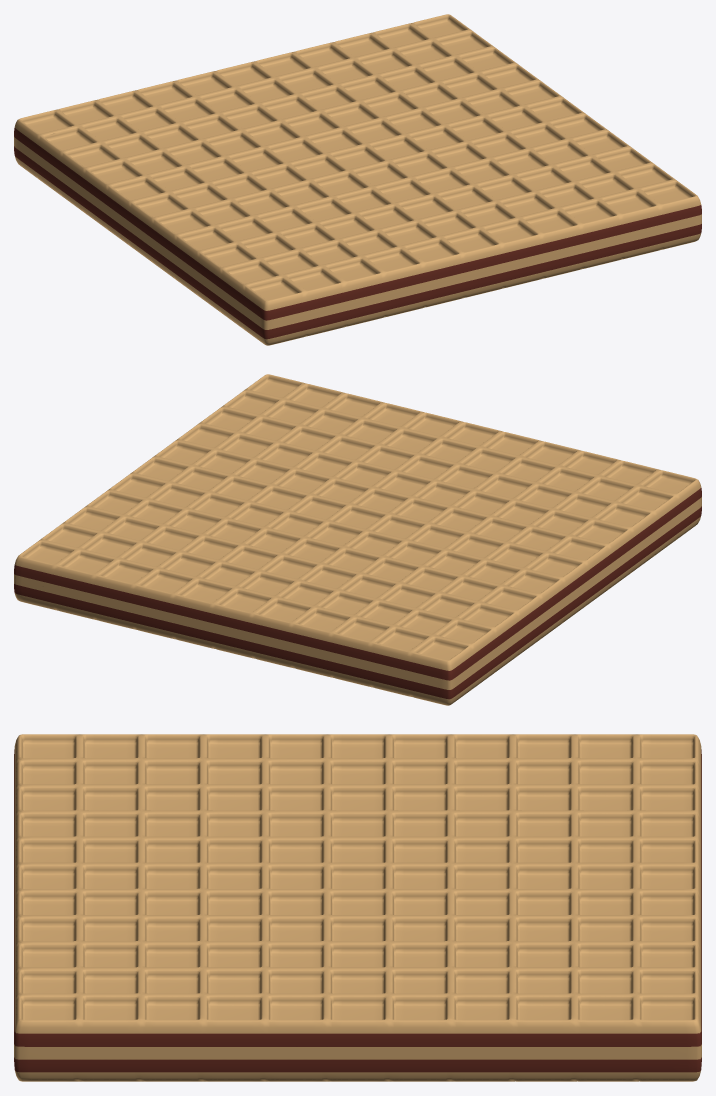
Rendered from ChocoWafer.fbx.
3 renders of one model, top to bottom at view 1: azimuth 30°, elevation 25°; view 2: azimuth 150°, elevation 25°; view 3: azimuth 270°, elevation 25°, orthographic. The views are drawn at different scales.
Parts seen in each view (by area): view 1: Wafer; view 2: Wafer; view 3: Wafer.
Part boxes in pixels (left/top/right/bottom): Wafer: left=14, top=14, right=701, bottom=345; Wafer: left=14, top=374, right=701, bottom=705; Wafer: left=14, top=734, right=701, bottom=1081.
Size of the model in its own units: 754 by 75.9 by 754.
2 materials, 2 textured.
